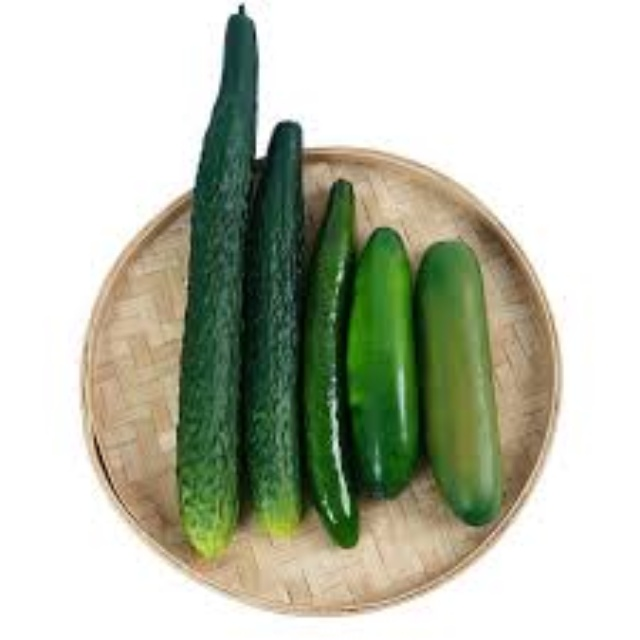dua_leo: (335, 226, 441, 501), (417, 238, 506, 531)
